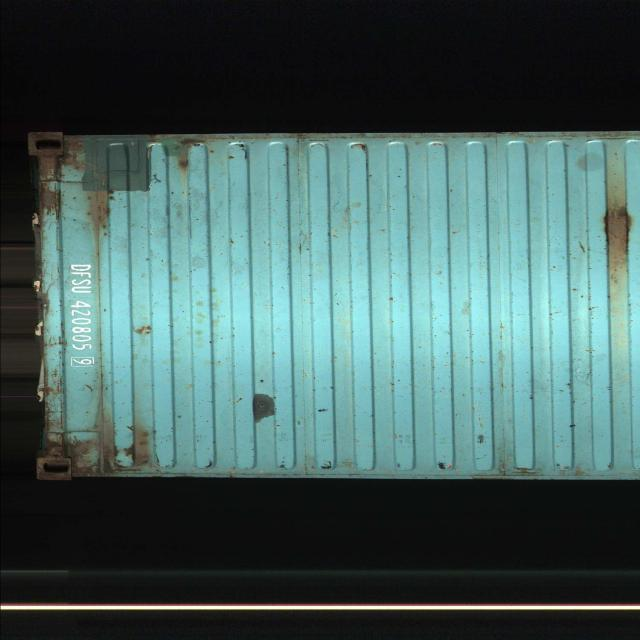rust: (38, 428, 119, 476), (39, 138, 80, 213), (603, 202, 637, 272), (166, 139, 224, 180), (88, 184, 118, 240), (128, 425, 155, 467)
